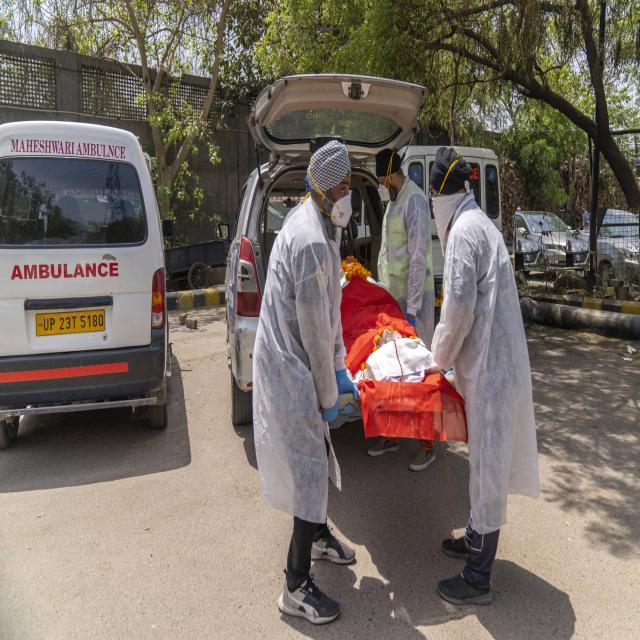car: (216, 75, 428, 420), (515, 212, 590, 271), (598, 208, 639, 287), (566, 231, 589, 267)
emergency: (0, 122, 171, 448)
